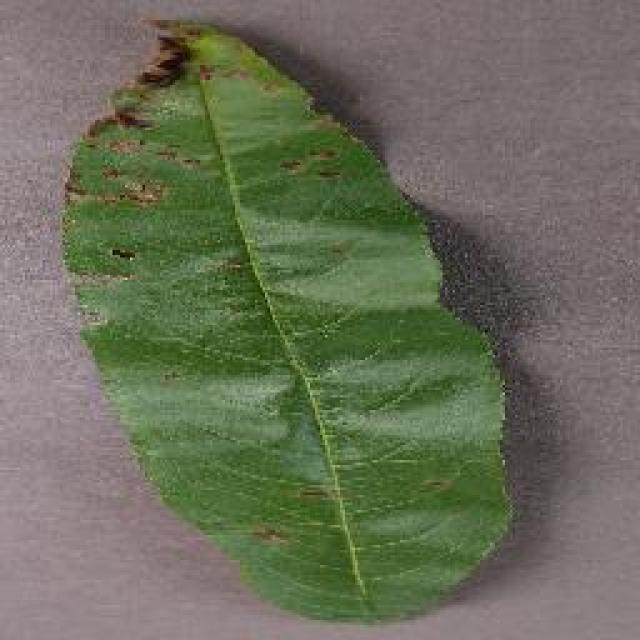Peach_Bacterial_Spot: (102, 40, 263, 277)
